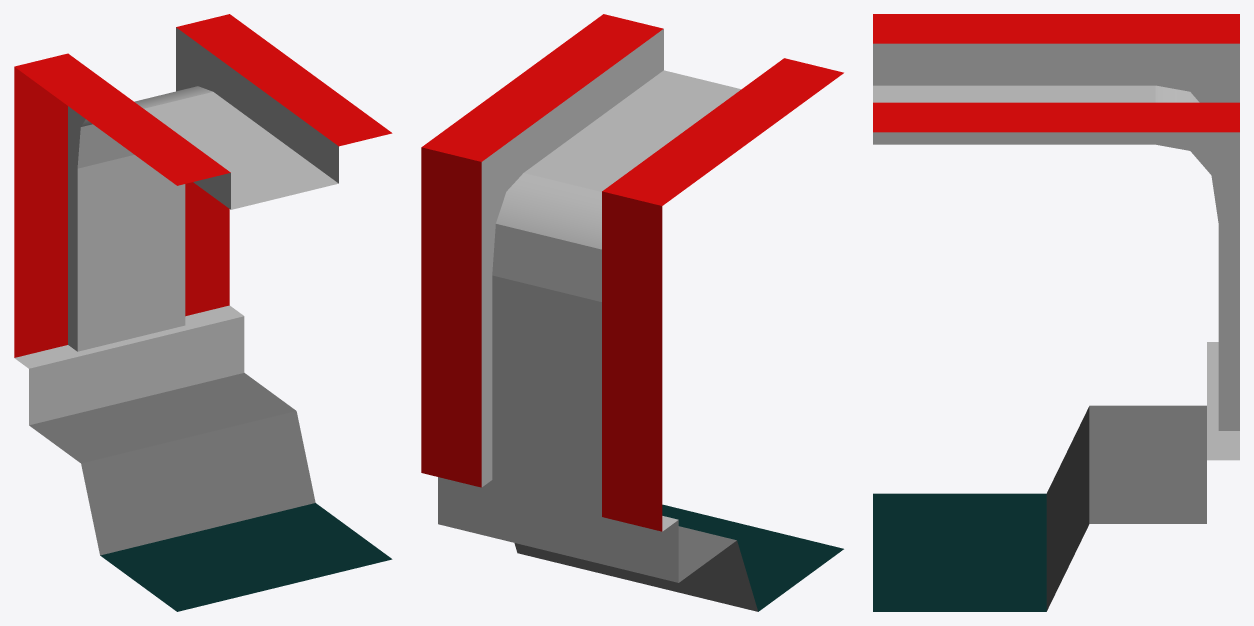
The model's file is recta_arco.fbx.
3 renders of one model, left to right at view 1: azimuth 30°, elevation 25°; view 2: azimuth 150°, elevation 25°; view 3: azimuth 270°, elevation 25°, orthographic. The views are drawn at different scales.
Visible parts, largest first — view 1: Pieza_Recta_Arco; view 2: Pieza_Recta_Arco; view 3: Pieza_Recta_Arco.
Part boxes in pixels (bbox=[...]): Pieza_Recta_Arco: bbox=[14, 14, 392, 611]; Pieza_Recta_Arco: bbox=[421, 14, 843, 611]; Pieza_Recta_Arco: bbox=[873, 14, 1239, 611].
Bounding box in the file's own units: 20 × 37.77 × 26.19.
